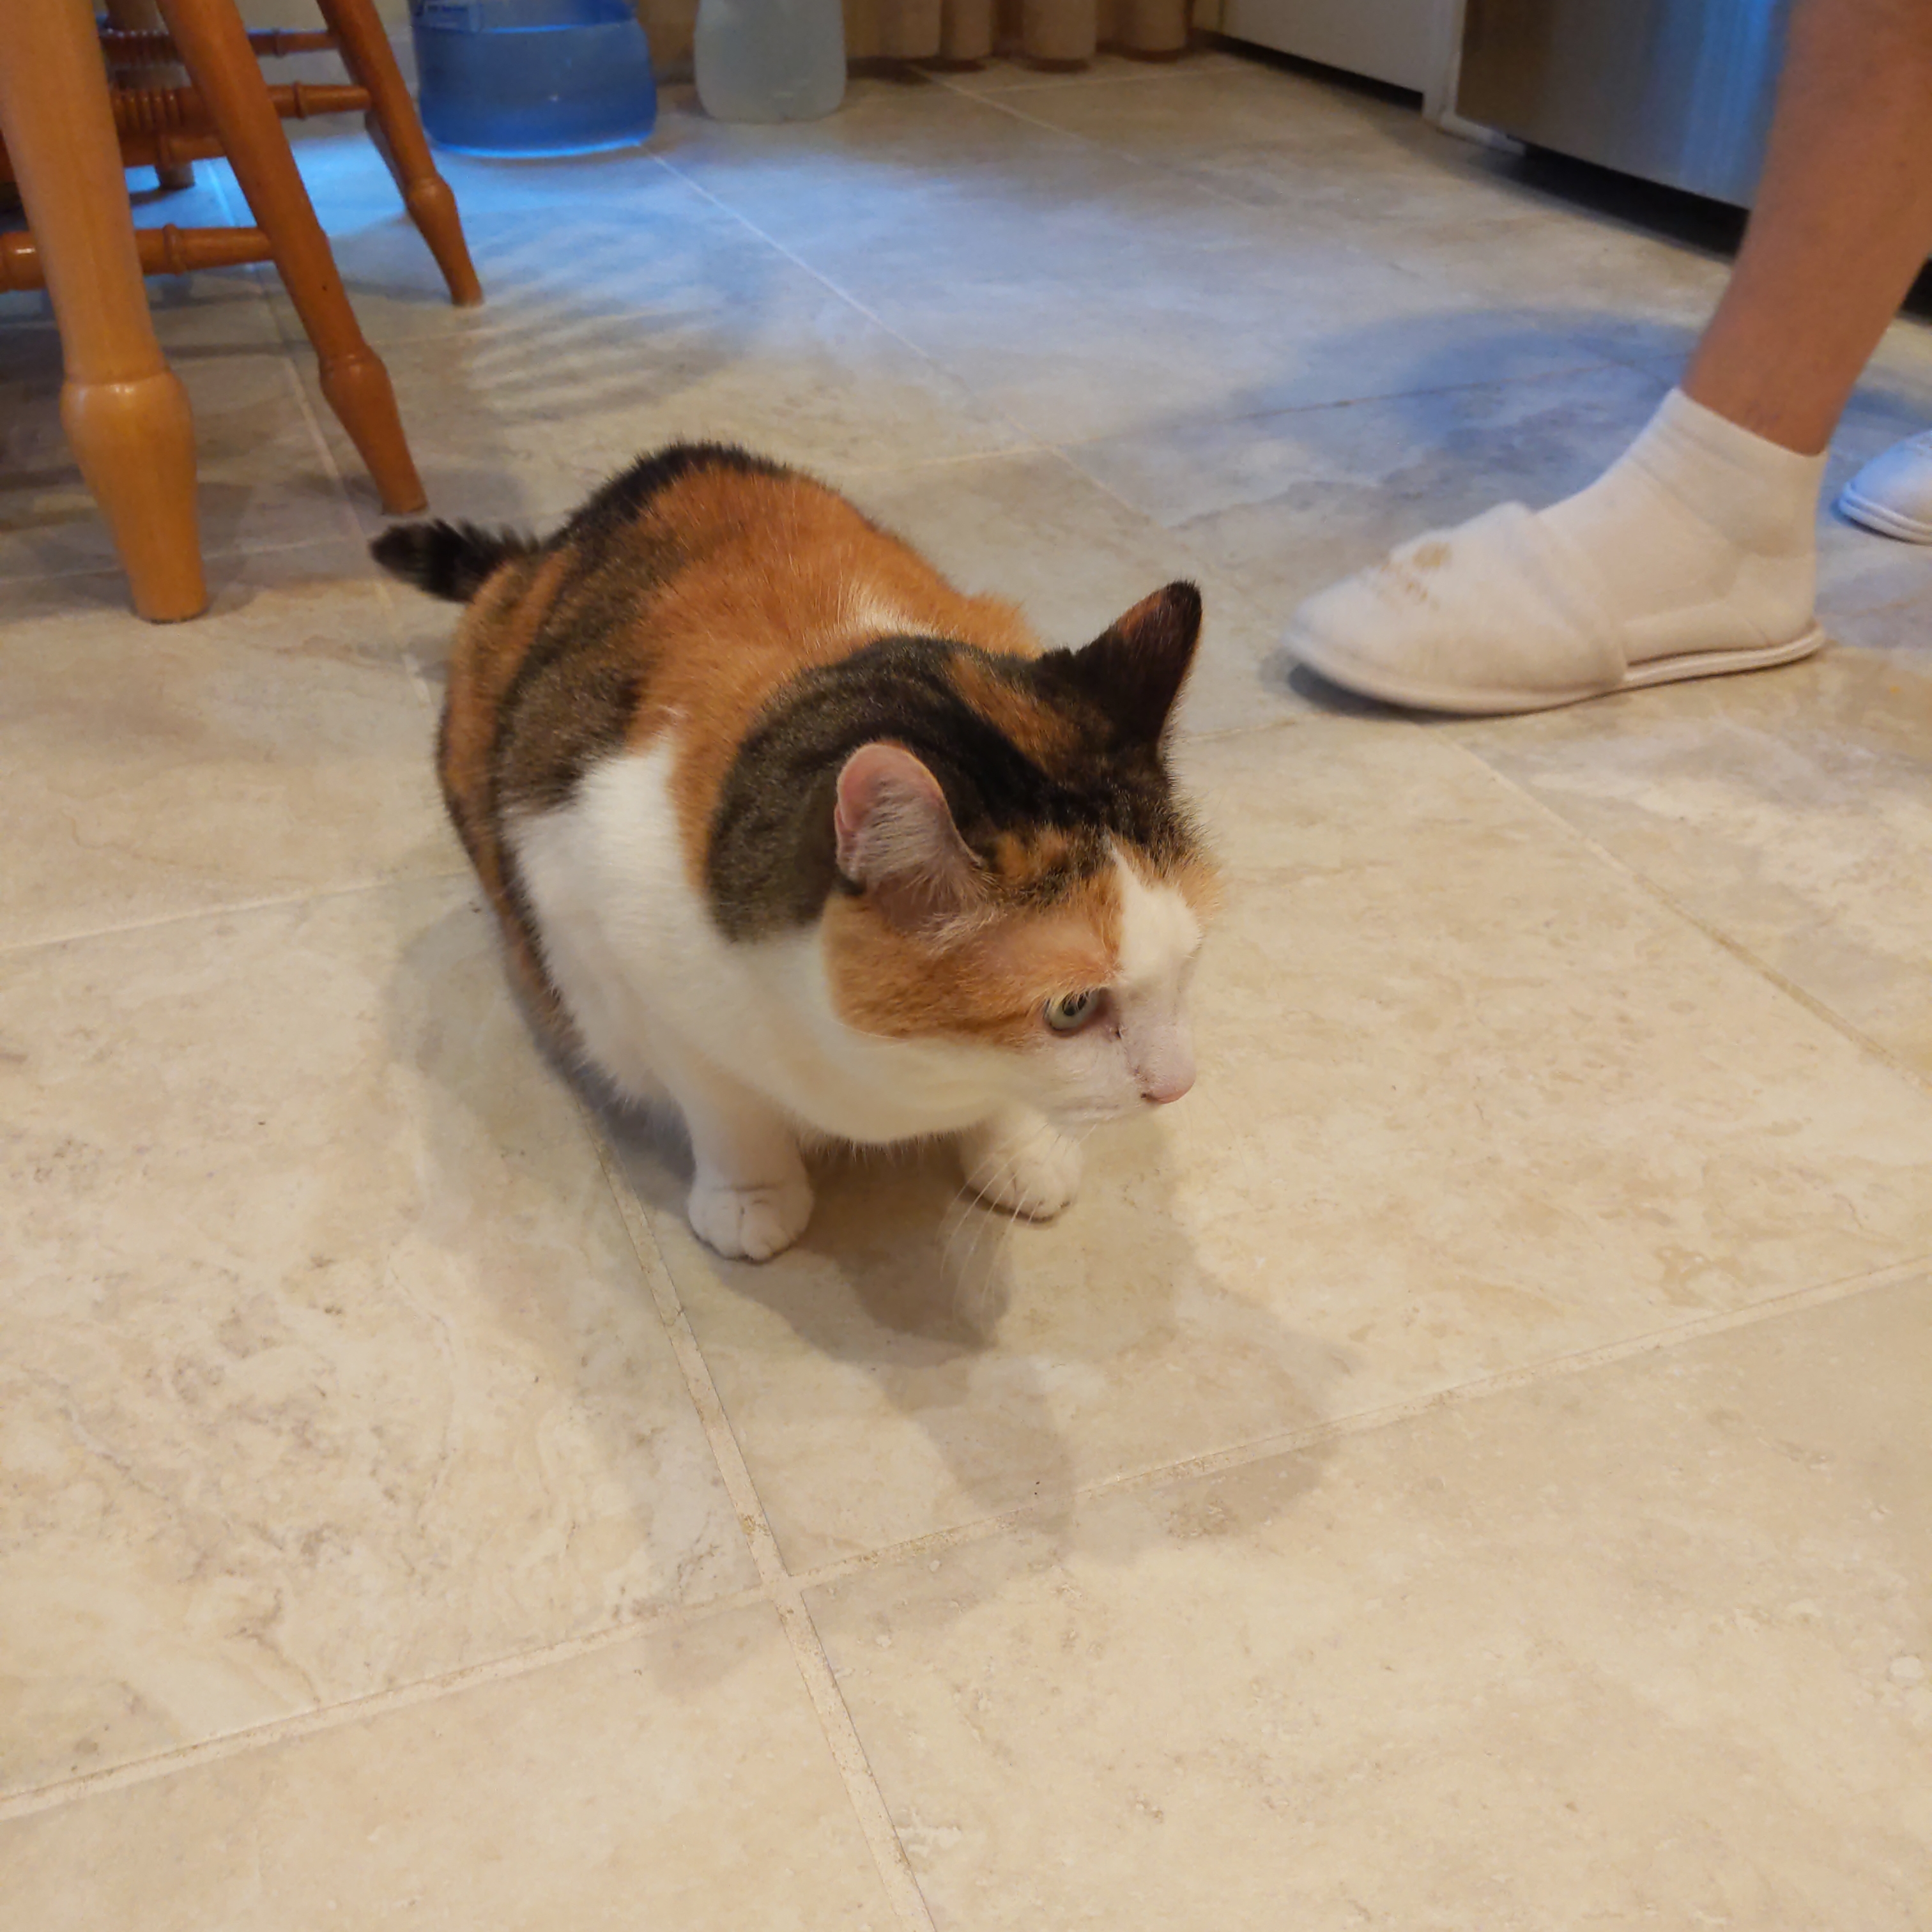Calico: (368, 444, 1217, 1263)
